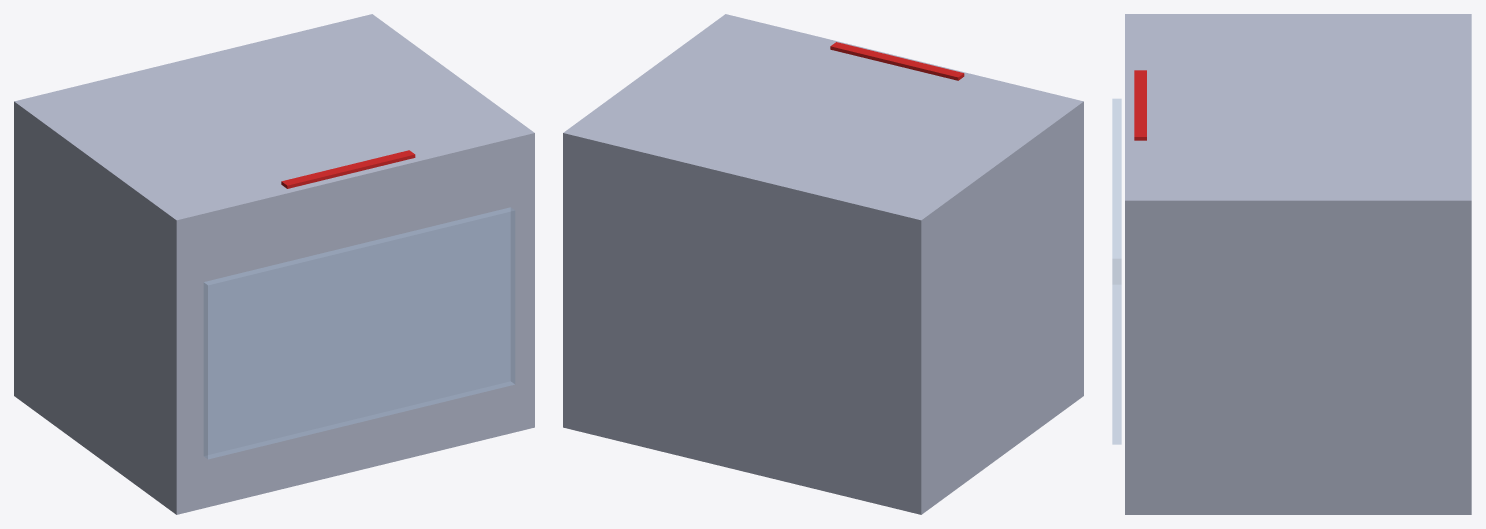
The model's file is supermarket.glb.
The picture shows the model from 3 angles, left to right: view 1: azimuth 30°, elevation 25°; view 2: azimuth 150°, elevation 25°; view 3: azimuth 270°, elevation 25°; orthographic projection. The views are drawn at different scales.
Bounding box in the file's own units: 1.85 × 1.47 × 1.51.
